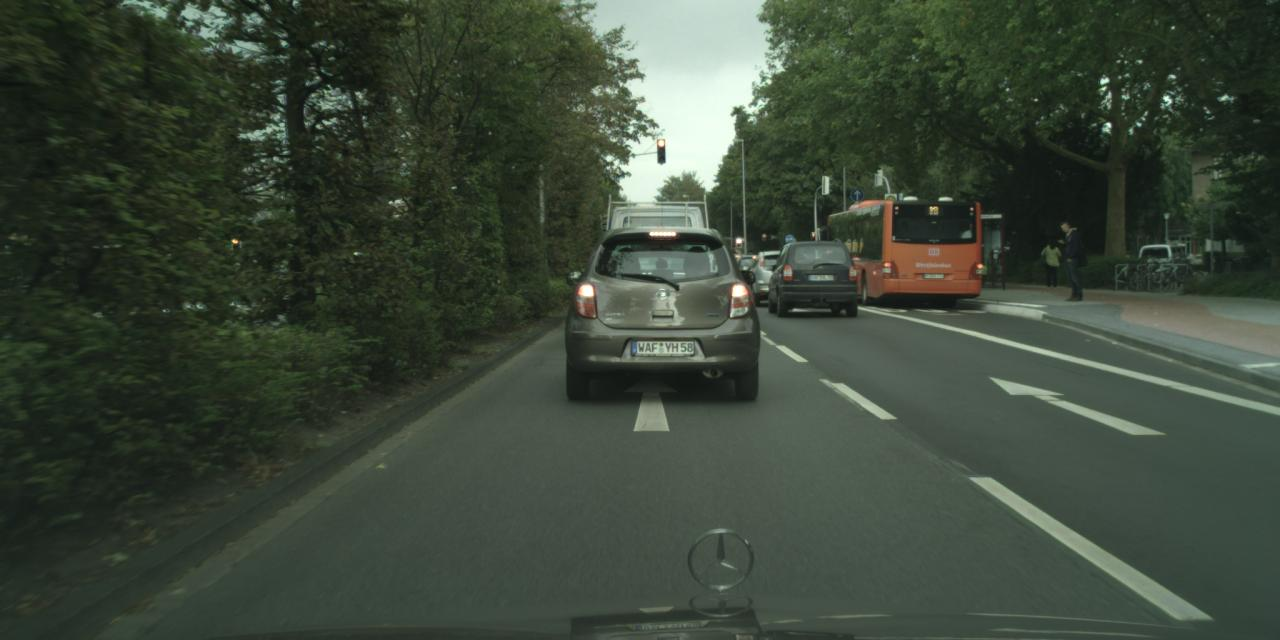ped: (1054, 220, 1086, 300), (1041, 239, 1061, 287)
